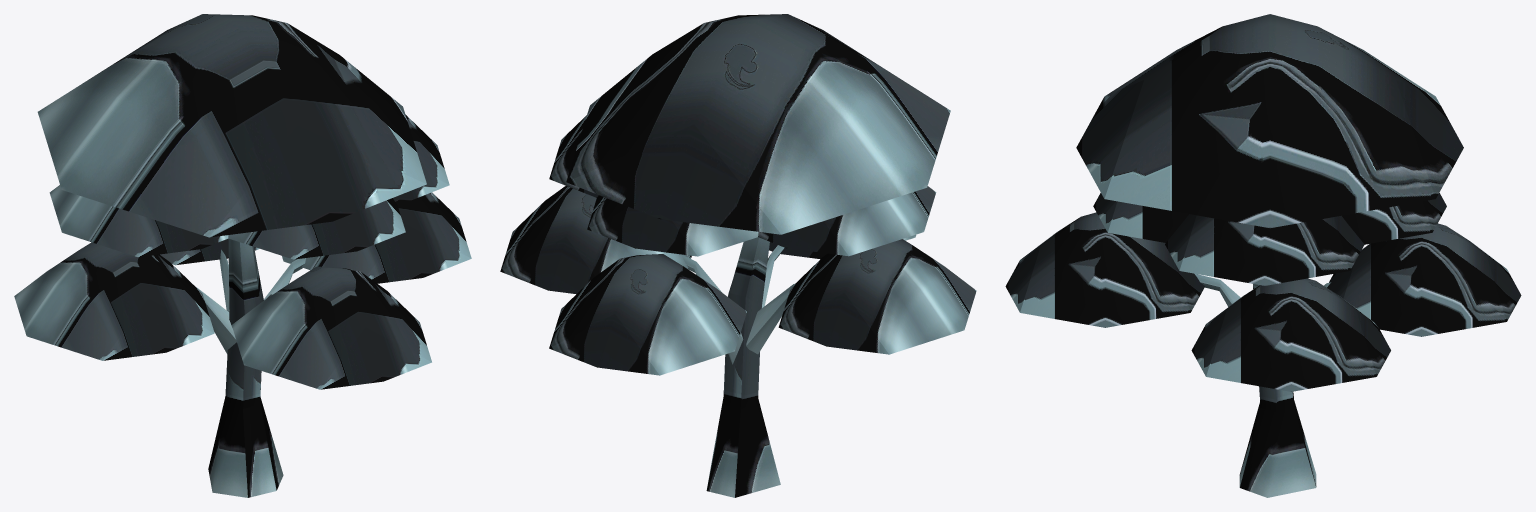
3 renders of one model, left to right at view 1: azimuth 30°, elevation 25°; view 2: azimuth 150°, elevation 25°; view 3: azimuth 270°, elevation 25°, orthographic. The views are drawn at different scales.
Parts seen in each view (by area): view 1: 2_Cluster3, 1_Trunk01; view 2: 2_Cluster3, 1_Trunk01; view 3: 2_Cluster3, 1_Trunk01.
Part boxes in pixels (x1=…): 2_Cluster3: x1=14, y1=14, x2=471, y2=389; 1_Trunk01: x1=196, y1=238, x2=305, y2=497; 2_Cluster3: x1=500, y1=14, x2=976, y2=375; 1_Trunk01: x1=681, y1=237, x2=795, y2=497; 2_Cluster3: x1=1005, y1=14, x2=1521, y2=391; 1_Trunk01: x1=1194, y1=273, x2=1330, y2=497.
Bounding box in the file's own units: 120 × 121 × 125.
1 material, 1 textured.
